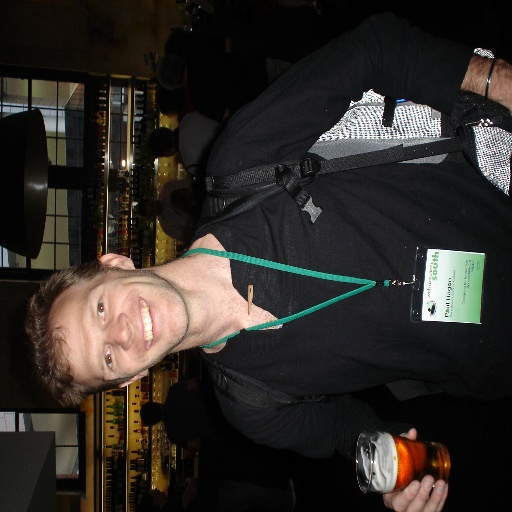hand: (382, 425, 450, 511)
